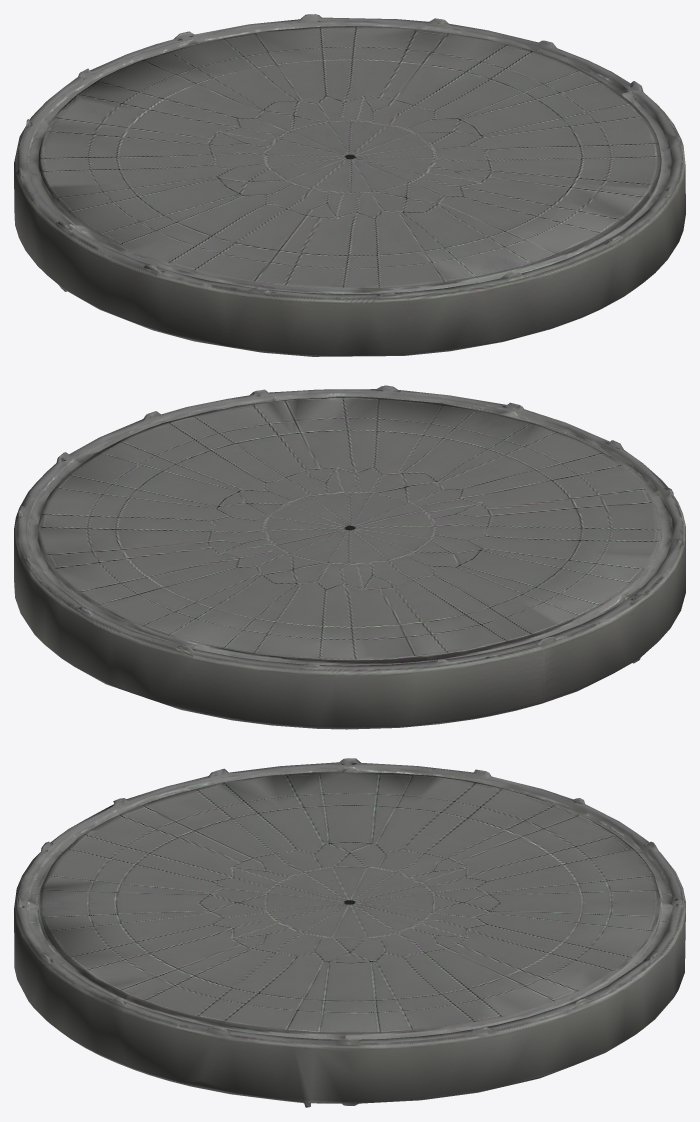
Rendered from Meshy_AI_Circular_Mandala_0524110758_texture.fbx.
3 views of the same model, one above another, from view 1: azimuth 30°, elevation 25°; view 2: azimuth 150°, elevation 25°; view 3: azimuth 270°, elevation 25° (orthographic).
Visible parts, largest first — view 1: Mesh_0; view 2: Mesh_0; view 3: Mesh_0.
Boxes of the visible parts, left/top/right/bottom form: Mesh_0: left=14, top=14, right=685, bottom=356; Mesh_0: left=14, top=385, right=685, bottom=729; Mesh_0: left=14, top=758, right=685, bottom=1107.
Bounding box in the file's own units: 191 × 21.39 × 191.
1 material, 1 textured.
